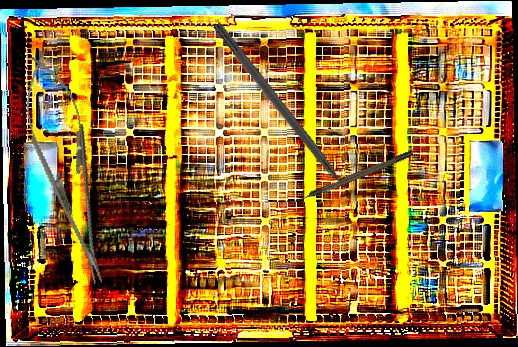Hook Surgical: (210, 21, 358, 204), (288, 150, 415, 206)
Needle Holder: (9, 48, 125, 292)
